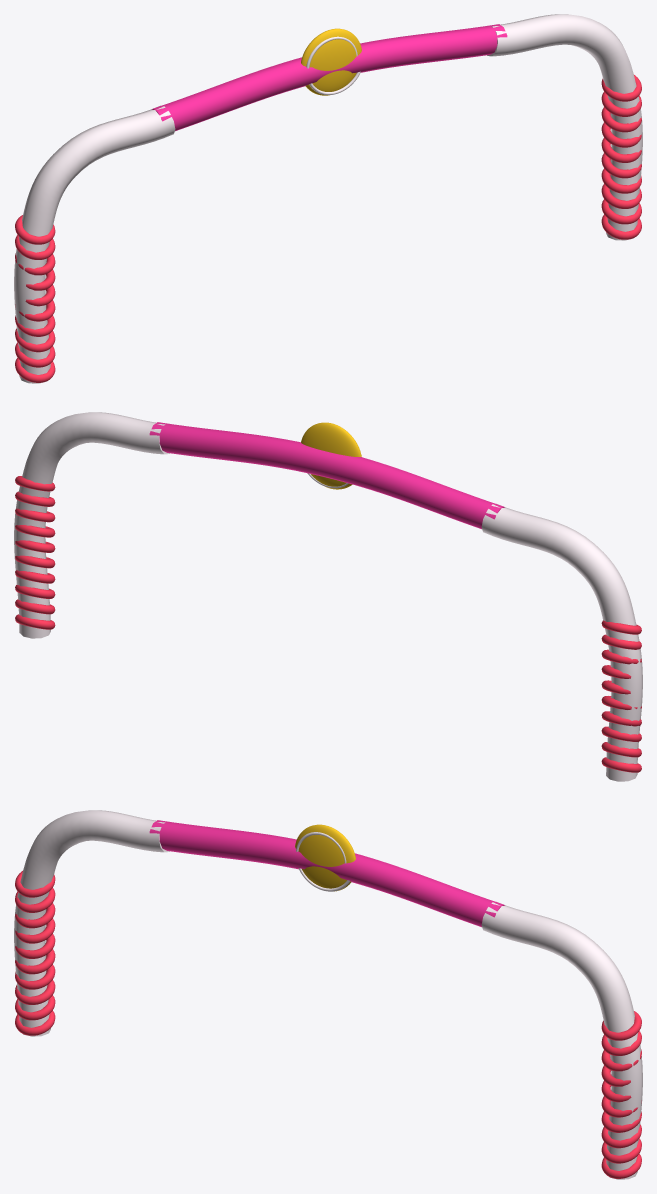
The model's file is gerbang-permen.glb.
The picture shows the model from 3 angles, top to bottom: view 1: azimuth 30°, elevation 25°; view 2: azimuth 150°, elevation 25°; view 3: azimuth 330°, elevation 25°; orthographic projection.
Parts seen in each view (by area): view 1: tube.002, tube, tube.001, Sphere; view 2: tube.002, tube, tube.001, Sphere; view 3: tube.002, tube.001, tube, Sphere.
Part boxes in pixels (bbox=[...]): tube.002: bbox=[152, 24, 507, 131]; tube: bbox=[14, 105, 175, 383]; tube.001: bbox=[487, 14, 642, 240]; Sphere: bbox=[301, 28, 361, 95]; tube.002: bbox=[149, 422, 504, 529]; tube: bbox=[481, 503, 642, 781]; tube.001: bbox=[14, 412, 169, 638]; Sphere: bbox=[301, 422, 361, 489]; tube.002: bbox=[149, 820, 504, 927]; tube.001: bbox=[481, 901, 642, 1179]; tube: bbox=[14, 810, 169, 1036]; Sphere: bbox=[295, 824, 355, 891].
Size of the model in its own units: 63.92 by 27.19 by 3.41.
